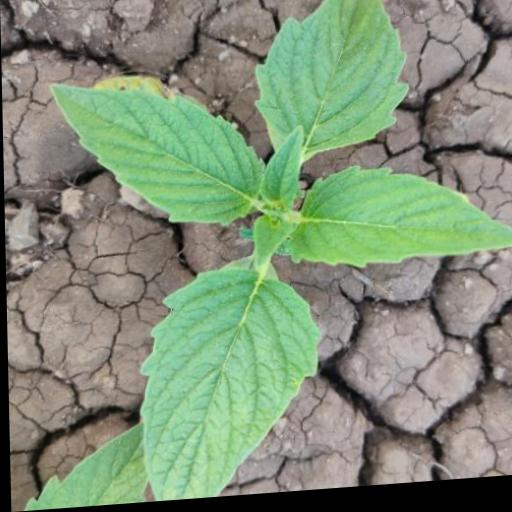crop: (20, 0, 512, 511)
